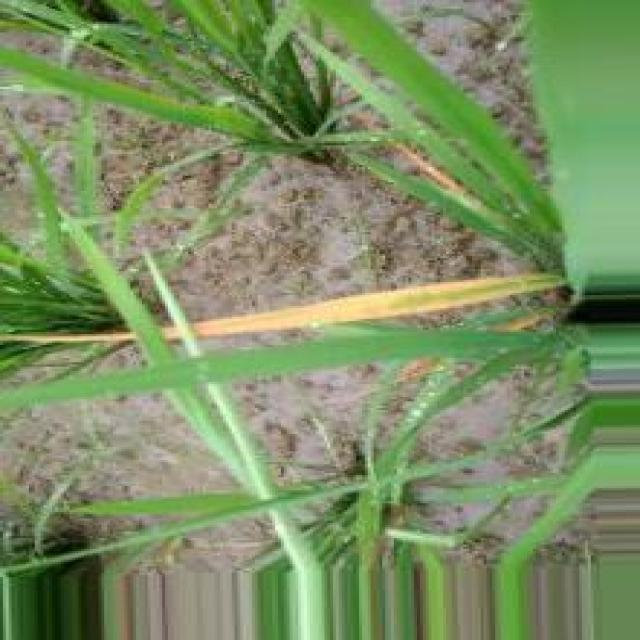Rice Tungro: (194, 274, 562, 337)
